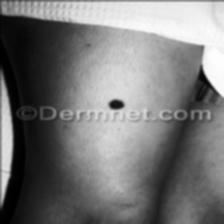Potentially Malignant Skin Tumors: (107, 99, 127, 111)
